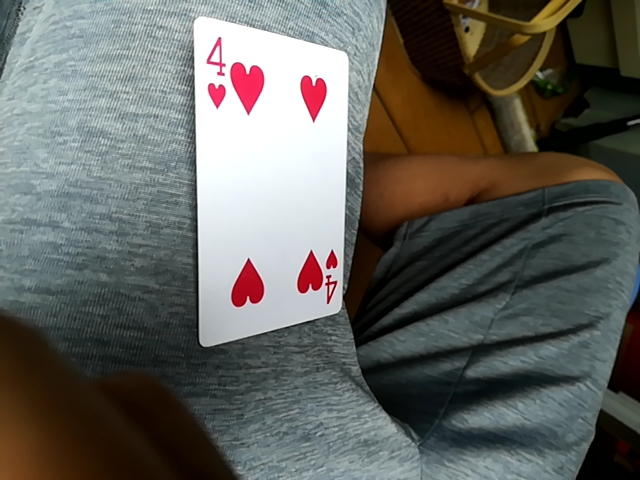hx 4: (175, 25, 354, 342)
